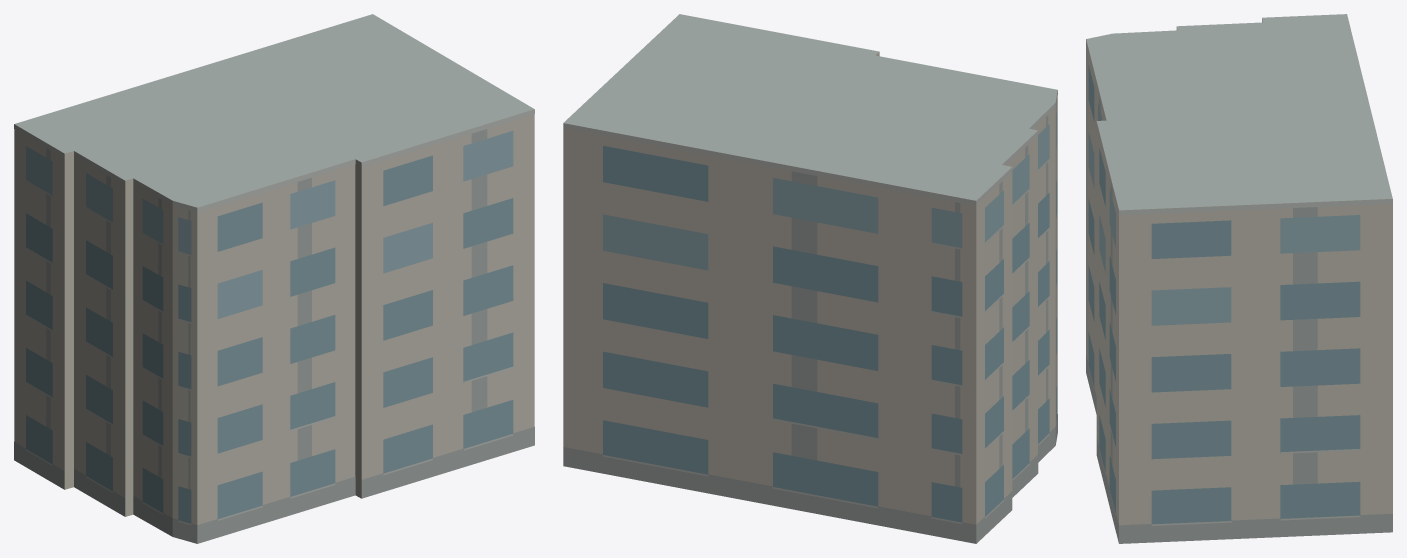
The model's file is survey-upis-32466944.glb.
The picture shows the model from 3 angles, left to right: view 1: azimuth 30°, elevation 25°; view 2: azimuth 150°, elevation 25°; view 3: azimuth 270°, elevation 25°; orthographic projection. The views are drawn at different scales.
Visible parts, largest first — view 1: survey-upis-32466944.tmp; view 2: survey-upis-32466944.tmp; view 3: survey-upis-32466944.tmp.
Part boxes in pixels (bbox=[...]): survey-upis-32466944.tmp: bbox=[14, 14, 534, 543]; survey-upis-32466944.tmp: bbox=[563, 14, 1057, 543]; survey-upis-32466944.tmp: bbox=[1086, 14, 1392, 543].
Size of the model in its own units: 20.38 by 16.13 by 13.46.
